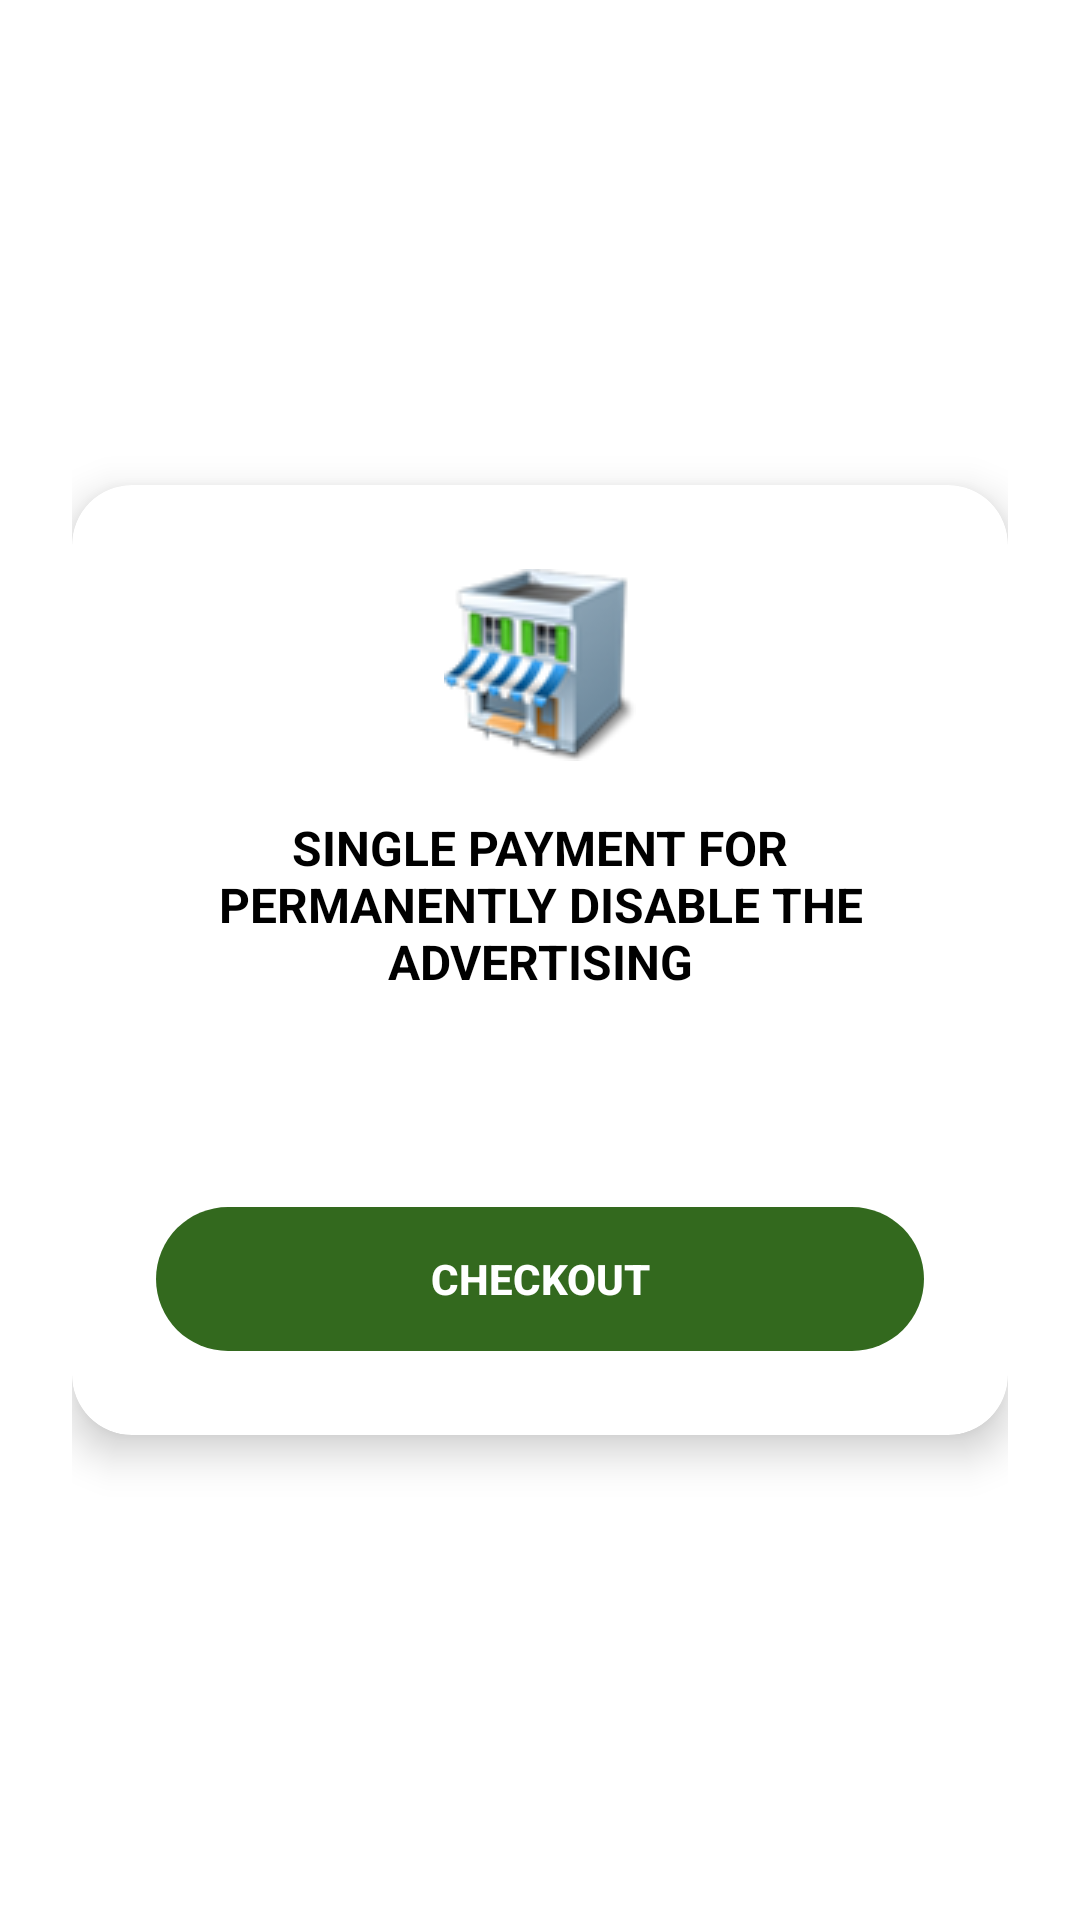

Icon click points for this 1080 x 1920 phone screenshot, format (x,y):
Store: (537,664)
